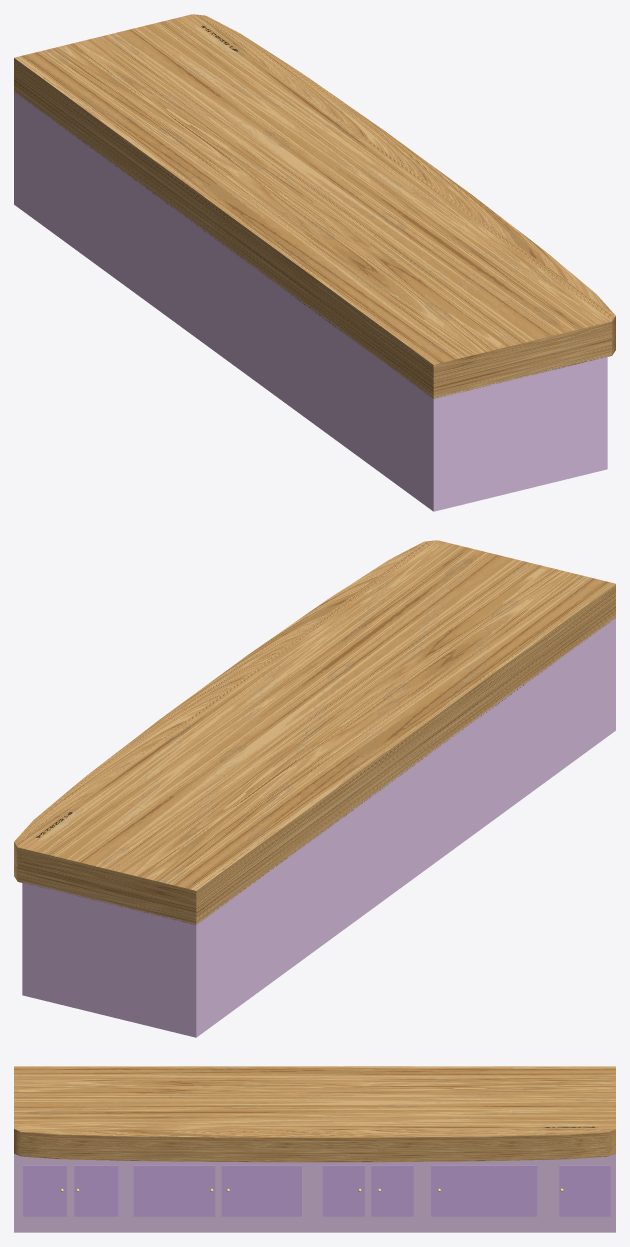
The model's file is barraTrabajo.obj.
The picture shows the model from 3 angles, top to bottom: view 1: azimuth 30°, elevation 25°; view 2: azimuth 150°, elevation 25°; view 3: azimuth 270°, elevation 25°; orthographic projection. The views are drawn at different scales.
Parts seen in each view (by area): view 1: polySurface486polySurface687, polySurface486polySurface643; view 2: polySurface486polySurface687, polySurface486polySurface643; view 3: polySurface486polySurface687, polySurface486polySurface643, polySurface486polySurface644, polySurface486polySurface688, polySurface638polySurface486, polySurface486polySurface653, polySurface486polySurface689, polySurface486polySurface686, polySurface486polySurface639, polySurface486polySurface646.
Part boxes in pixels (bbox=[...]): polySurface486polySurface687: bbox=[14, 14, 615, 399]; polySurface486polySurface643: bbox=[14, 91, 607, 511]; polySurface486polySurface687: bbox=[14, 540, 615, 924]; polySurface486polySurface643: bbox=[22, 617, 615, 1037]; polySurface486polySurface687: bbox=[14, 1066, 615, 1162]; polySurface486polySurface643: bbox=[14, 1153, 615, 1232]; polySurface486polySurface644: bbox=[431, 1165, 537, 1216]; polySurface486polySurface688: bbox=[133, 1165, 215, 1216]; polySurface638polySurface486: bbox=[221, 1165, 301, 1216]; polySurface486polySurface653: bbox=[559, 1165, 610, 1216]; polySurface486polySurface689: bbox=[74, 1165, 118, 1216]; polySurface486polySurface686: bbox=[23, 1165, 66, 1216]; polySurface486polySurface639: bbox=[322, 1165, 364, 1216]; polySurface486polySurface646: bbox=[371, 1165, 413, 1216].
Bounding box in the file's own units: 0.1691 × 0.1168 × 0.6051.
18 materials, 18 textured.
